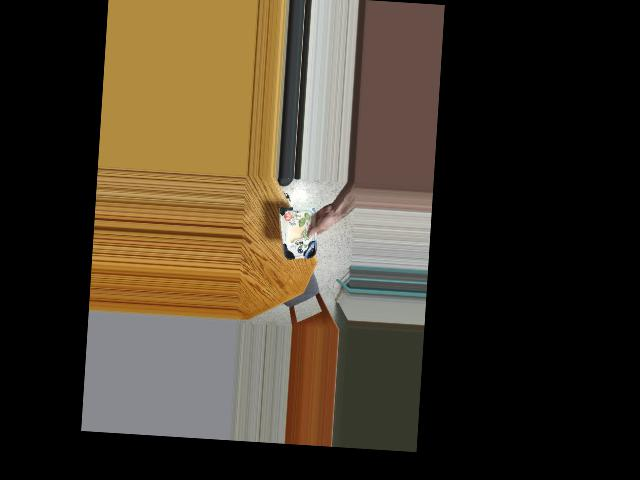cheese: (275, 205, 325, 259)
